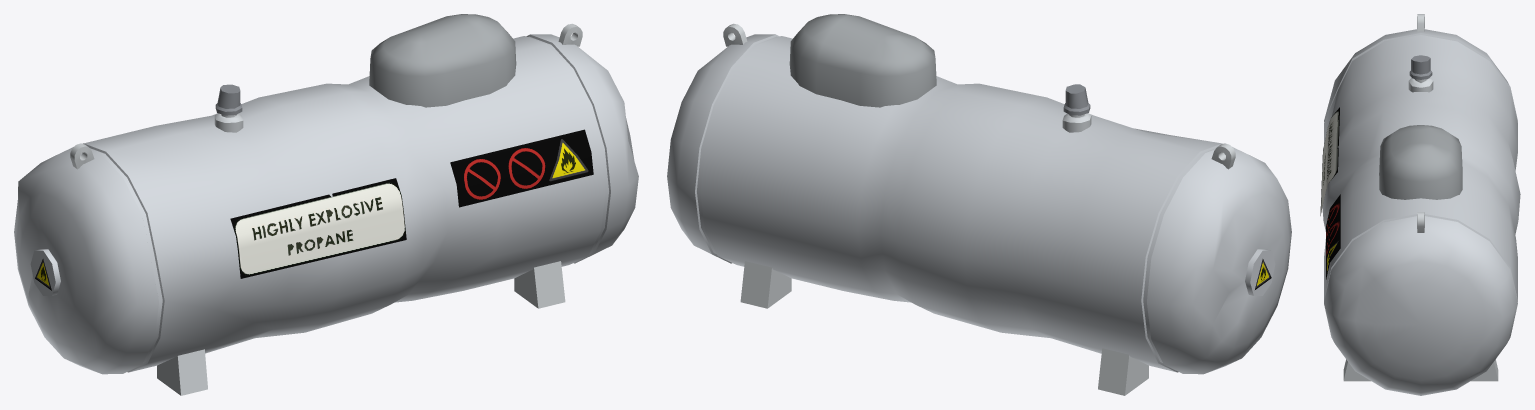
File: SM_Prop_PropaneTank_03_Damaged_01.obj
3 views of the same model, side by side, from view 1: azimuth 30°, elevation 25°; view 2: azimuth 150°, elevation 25°; view 3: azimuth 270°, elevation 25° (orthographic). The views are drawn at different scales.
Visible parts, largest first — view 1: SM_Prop_PropaneTank_03_Damaged_01_Mat_SwatchOverlay_PolygonTown_, SM_Prop_PropaneTank_03_Damaged_01_M_StickerAtlas_Inst; view 2: SM_Prop_PropaneTank_03_Damaged_01_Mat_SwatchOverlay_PolygonTown_; view 3: SM_Prop_PropaneTank_03_Damaged_01_Mat_SwatchOverlay_PolygonTown_, SM_Prop_PropaneTank_03_Damaged_01_M_StickerAtlas_Inst.
Boxes of the visible parts, x1,y1,x2,y2 form: SM_Prop_PropaneTank_03_Damaged_01_Mat_SwatchOverlay_PolygonTown_: (14, 14, 638, 395); SM_Prop_PropaneTank_03_Damaged_01_M_StickerAtlas_Inst: (35, 129, 593, 290); SM_Prop_PropaneTank_03_Damaged_01_Mat_SwatchOverlay_PolygonTown_: (667, 14, 1291, 395); SM_Prop_PropaneTank_03_Damaged_01_Mat_SwatchOverlay_PolygonTown_: (1322, 14, 1520, 395); SM_Prop_PropaneTank_03_Damaged_01_M_StickerAtlas_Inst: (1320, 107, 1340, 279).
Bounding box in the file's own units: 3.23 × 1.44 × 1.2.
Materials: 2 (2 with a texture image).
